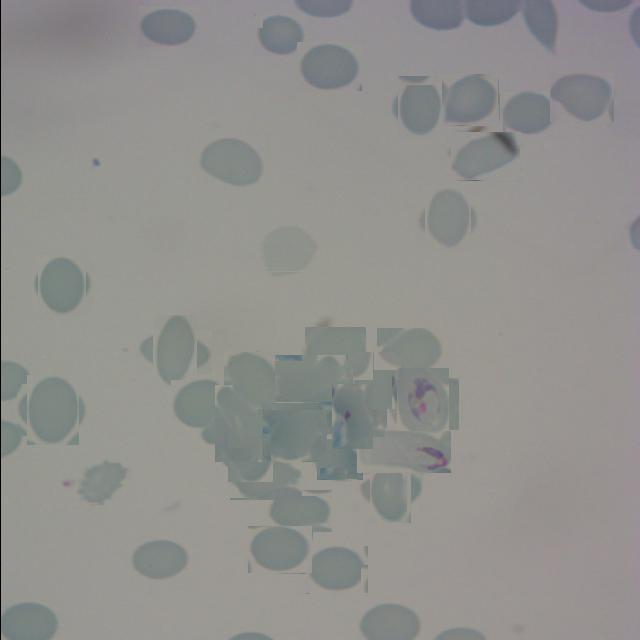leukocyte: (206, 392, 268, 454), (21, 380, 82, 440), (144, 322, 203, 382), (274, 355, 346, 403), (450, 132, 520, 181), (262, 410, 327, 462), (376, 326, 443, 376), (196, 138, 264, 187), (296, 42, 361, 91), (34, 256, 90, 312), (549, 73, 613, 122), (419, 191, 475, 247), (247, 526, 312, 574), (302, 327, 364, 377), (305, 546, 368, 594), (170, 380, 230, 430), (392, 80, 447, 134), (324, 389, 378, 444), (229, 460, 302, 500), (222, 424, 276, 478), (441, 74, 498, 125), (258, 225, 319, 272), (362, 464, 417, 516), (223, 352, 279, 403), (350, 354, 402, 408), (267, 490, 332, 533), (128, 538, 191, 582), (137, 6, 198, 47), (253, 14, 306, 57), (76, 462, 130, 504), (502, 92, 554, 134), (316, 434, 362, 480)
schizont: (356, 431, 450, 473), (391, 373, 453, 435)
